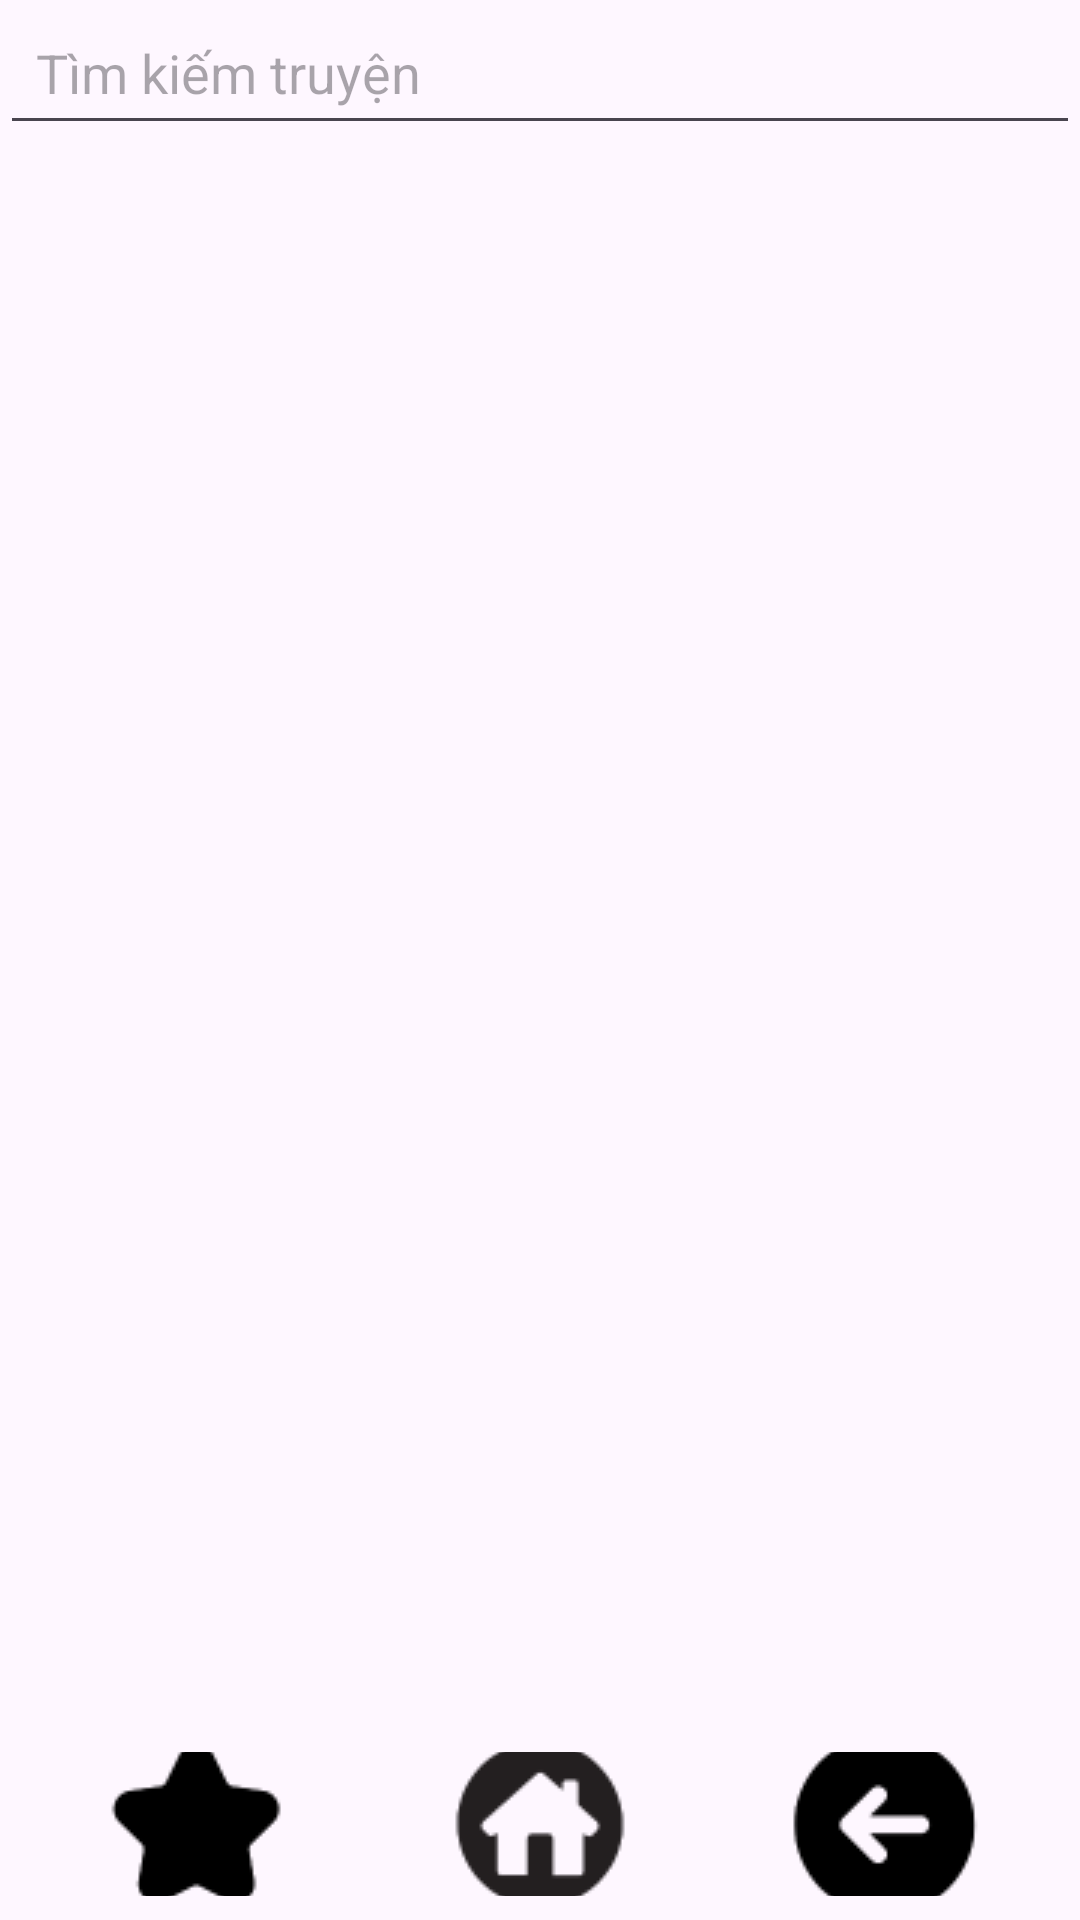

Screen size 1080 x 1920. Icon name, then its center in pixels as (x,y):
Back: (884,1824)
Home: (540,1824)
Star: (196,1824)
